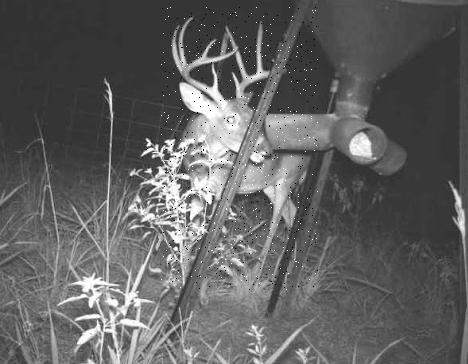Deer: (161, 7, 318, 290)
